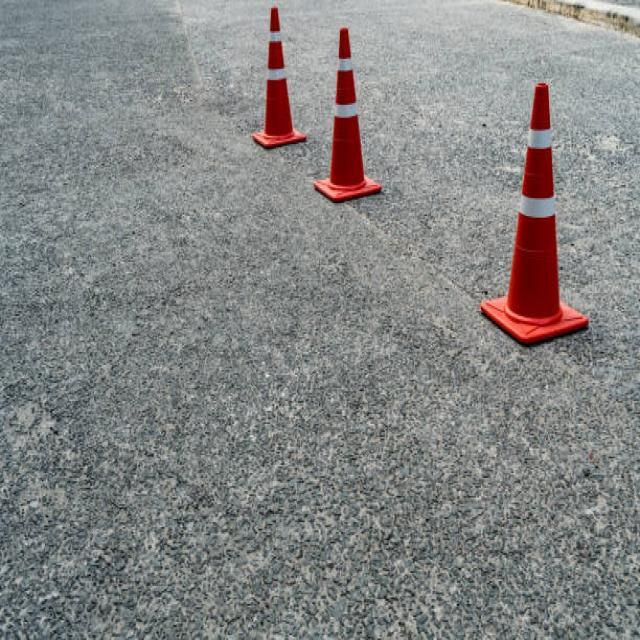Traffic Cone: (474, 49, 597, 360), (297, 3, 402, 215), (243, 0, 311, 160)
